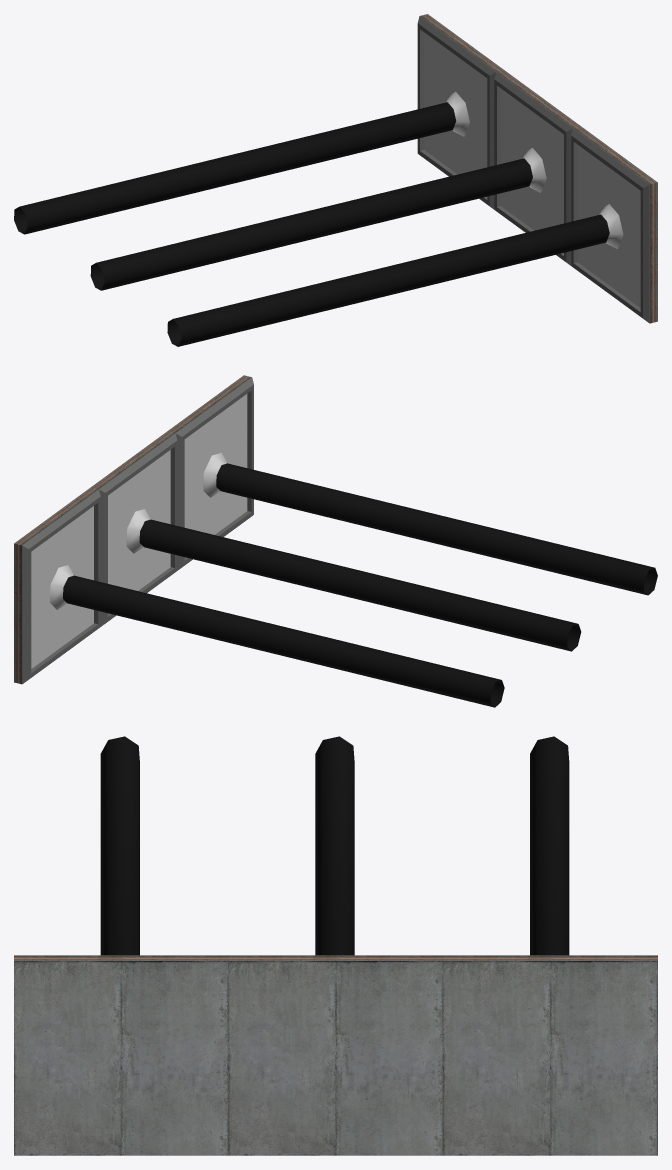
The model's file is Chamber10_MovingPlatforms.fbx.
3 views of the same model, one above another, from view 1: azimuth 30°, elevation 25°; view 2: azimuth 150°, elevation 25°; view 3: azimuth 270°, elevation 25° (orthographic). The views are drawn at different scales.
Parts seen in each view (by area): view 1: Camber_10_MovingPlatforms; view 2: Camber_10_MovingPlatforms; view 3: Camber_10_MovingPlatforms.
Boxes of the visible parts, x1,y1,x2,y2 form: Camber_10_MovingPlatforms: [14, 14, 657, 346]; Camber_10_MovingPlatforms: [14, 375, 657, 707]; Camber_10_MovingPlatforms: [14, 736, 657, 1155].
Size of the model in its own units: 817 by 732 by 244.
